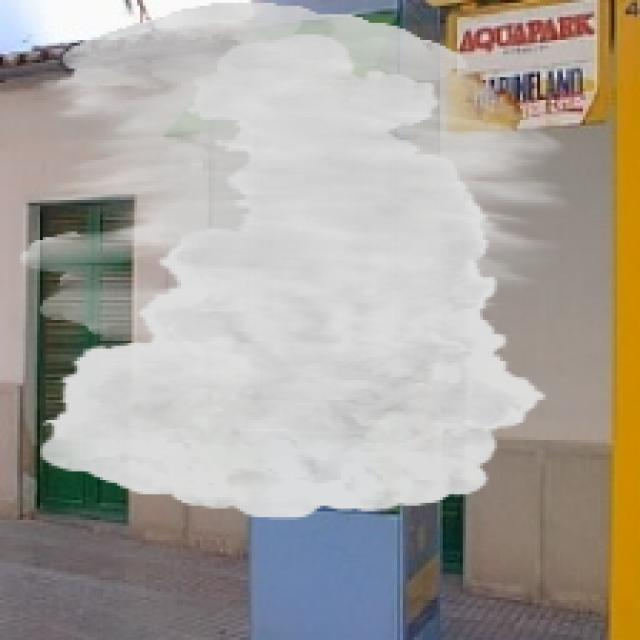smoke: (20, 3, 569, 520)
